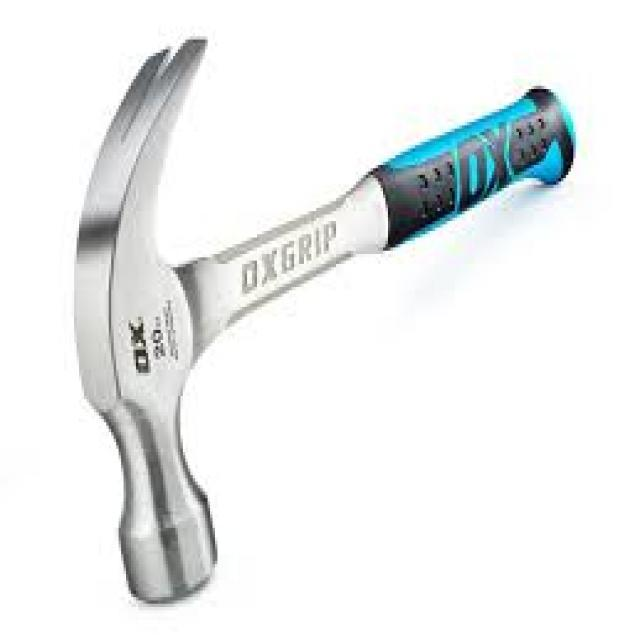hammer: (59, 22, 587, 616)
